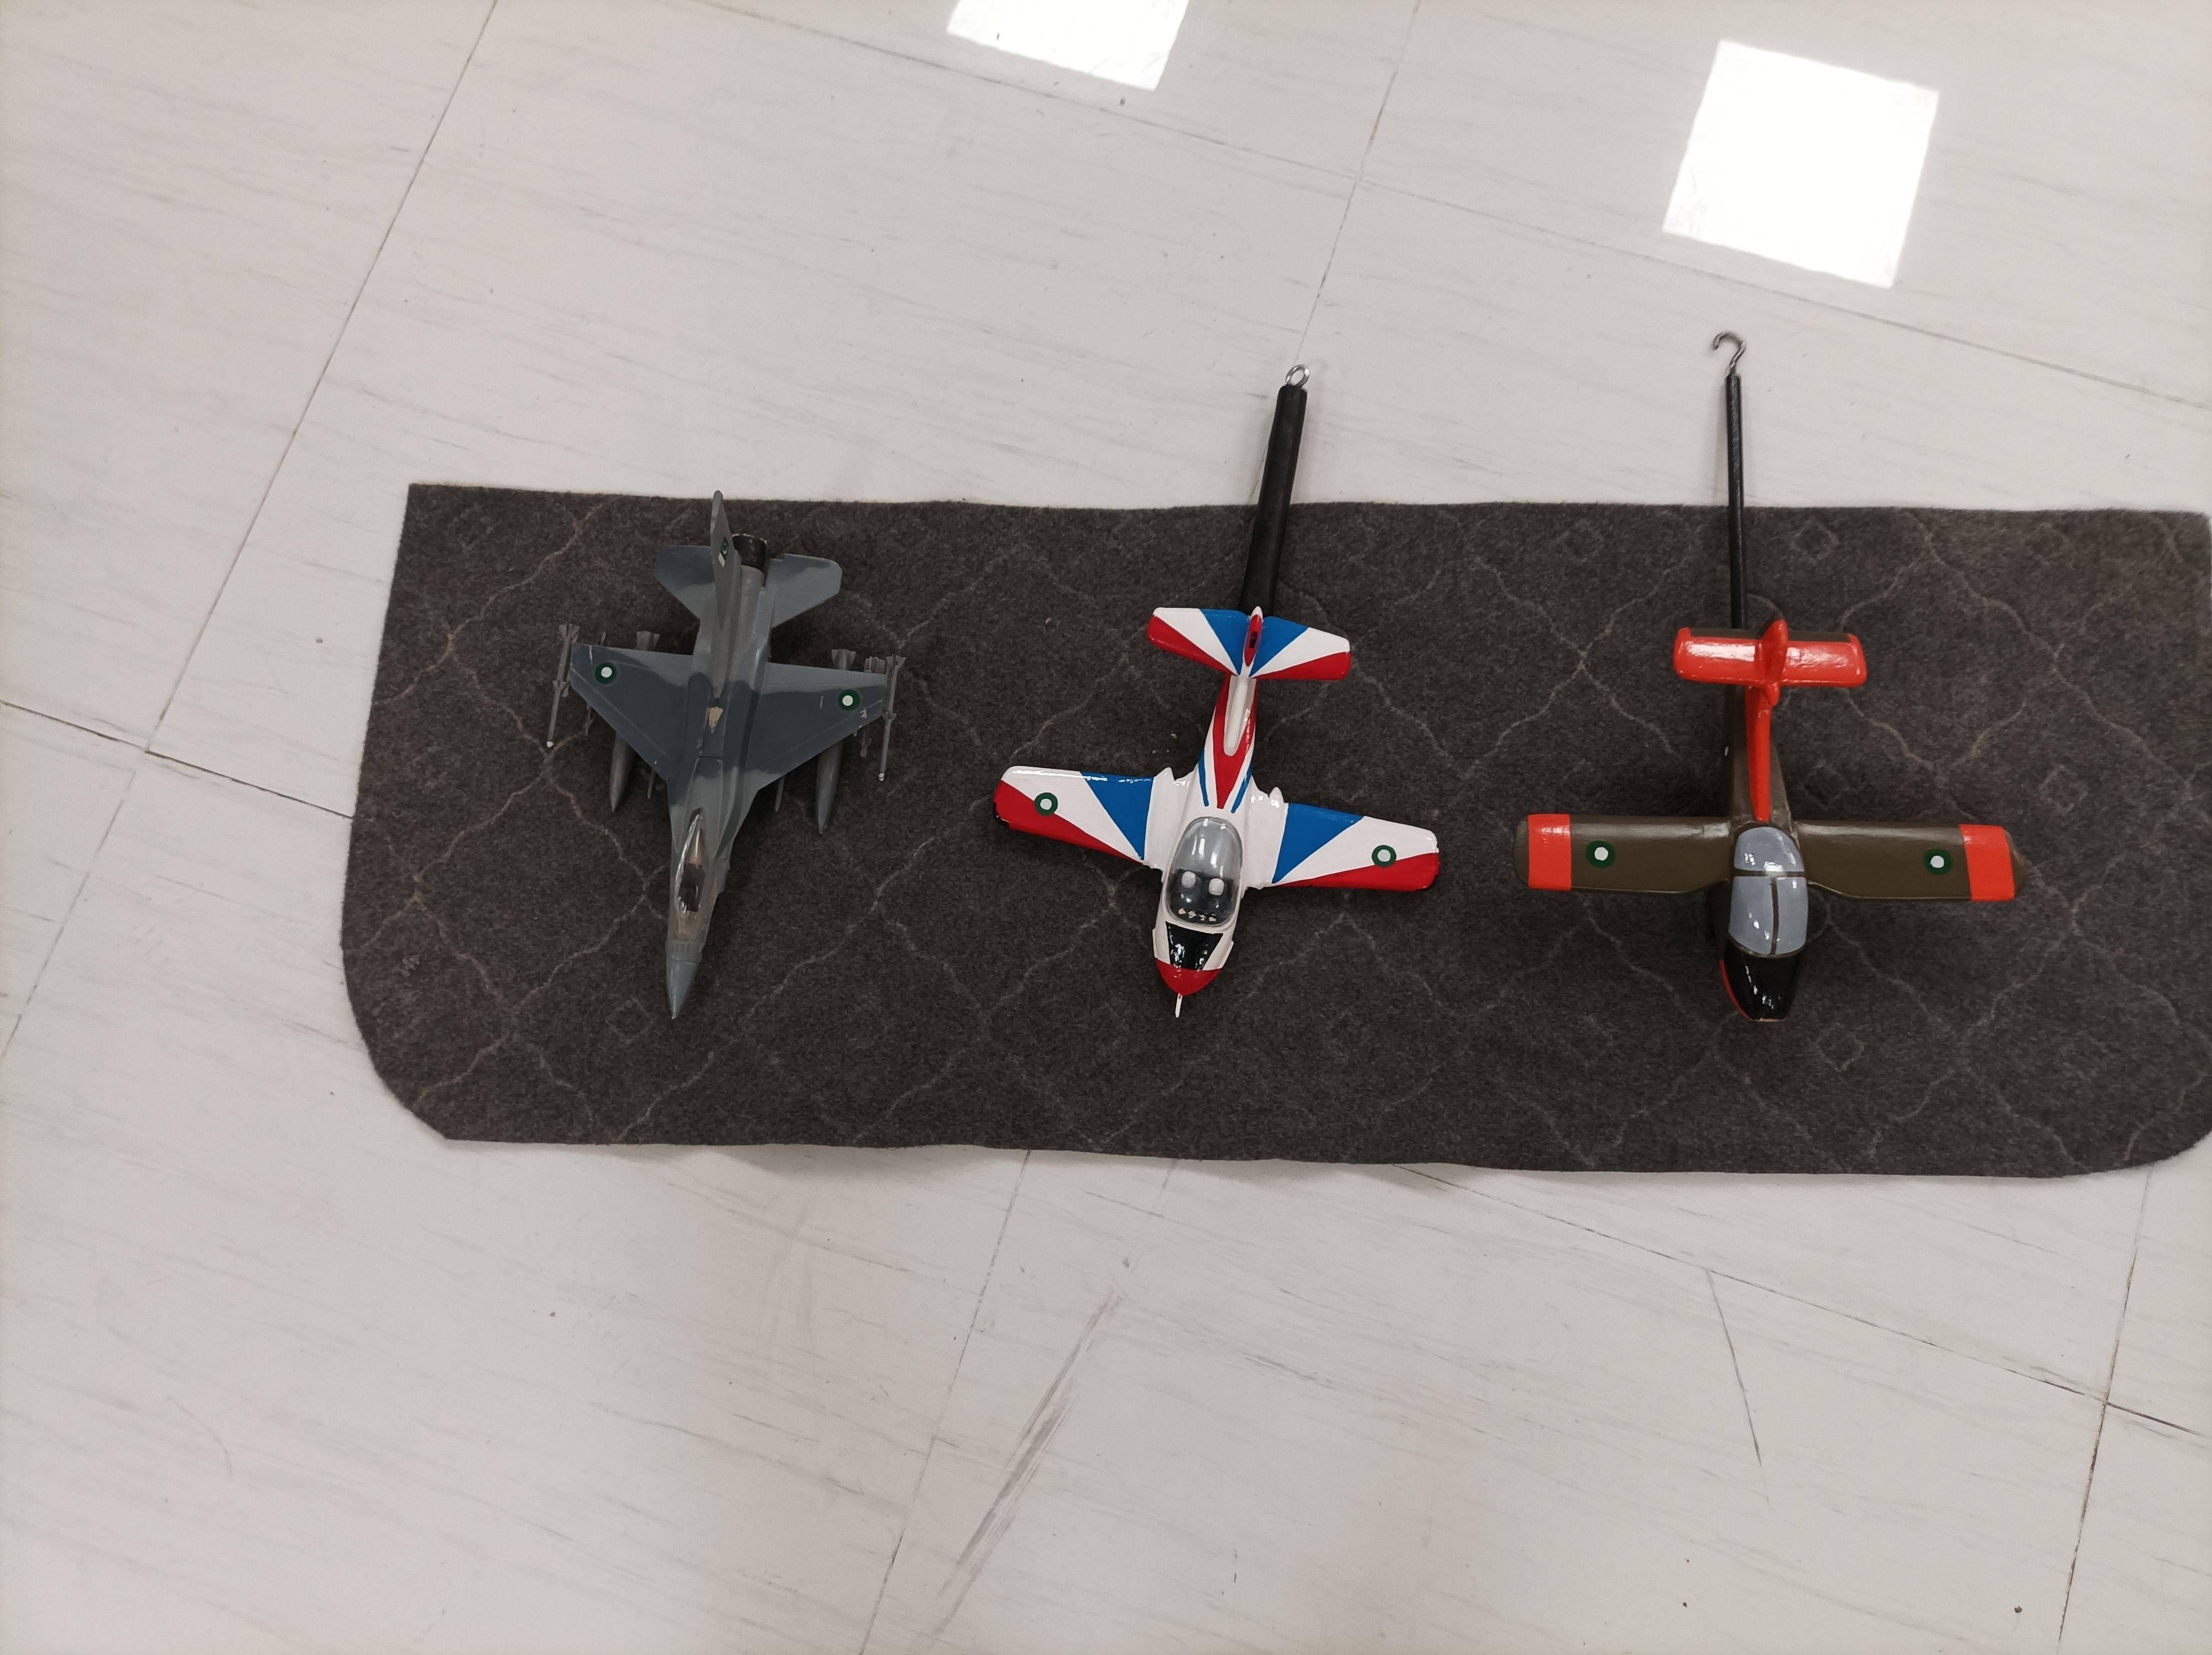Airplane: (1510, 608, 2047, 1043), (971, 558, 1451, 1031), (532, 501, 921, 1034)
